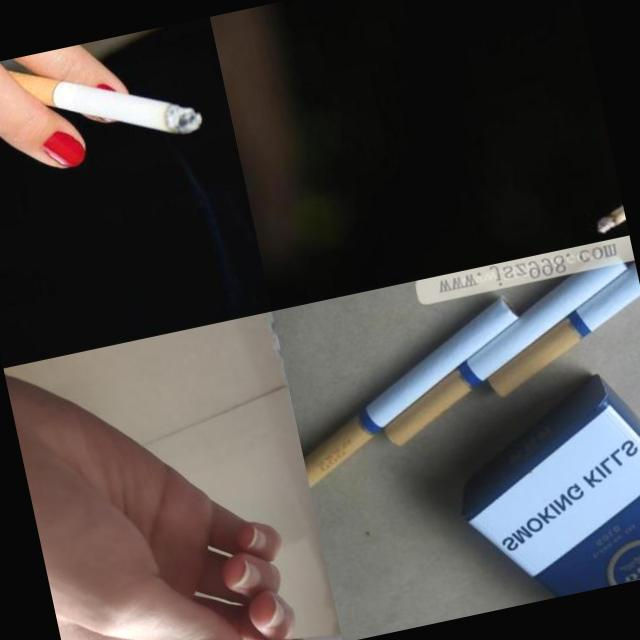smoke: (356, 248, 640, 448), (279, 292, 546, 490), (0, 31, 206, 174), (464, 235, 640, 400), (586, 175, 628, 236), (239, 621, 342, 640)
